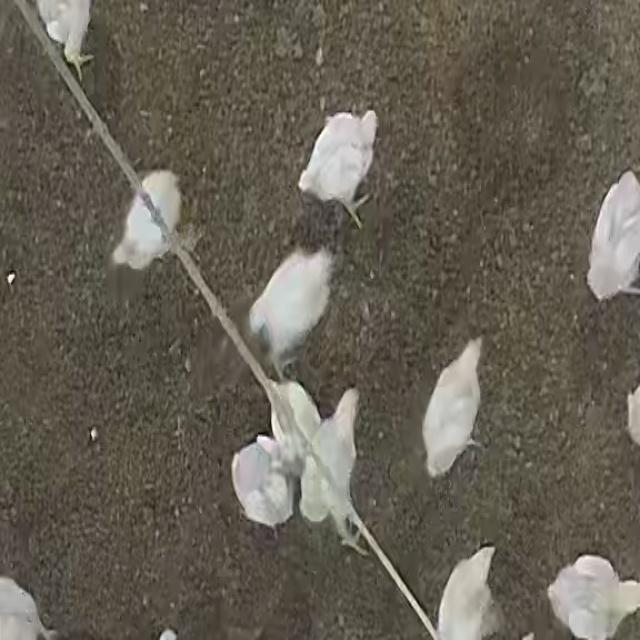chicken: (418, 336, 489, 478), (250, 248, 328, 361), (108, 168, 184, 274), (301, 388, 360, 524), (297, 109, 379, 205), (546, 554, 633, 639), (586, 167, 640, 302), (231, 436, 294, 534), (440, 543, 495, 640), (35, 0, 94, 72), (1, 575, 59, 640)
